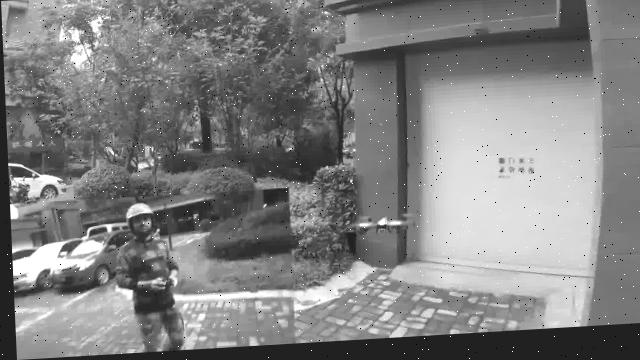drone: (335, 211, 423, 245)
